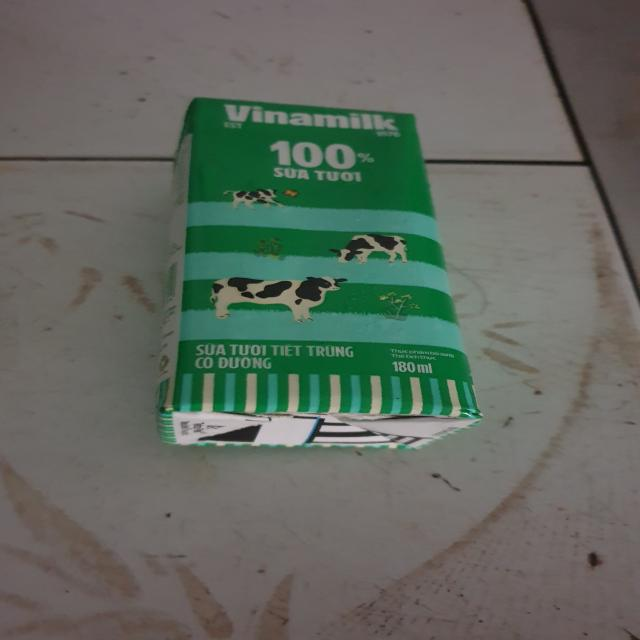Vina: (149, 94, 494, 457)
